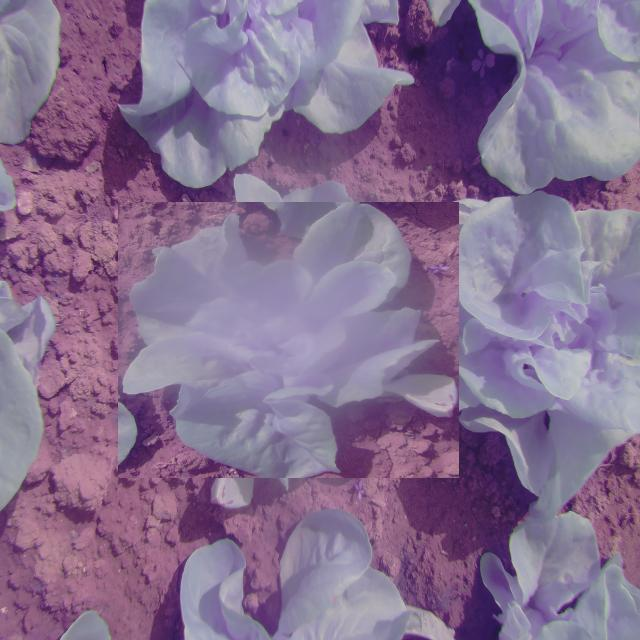vege: (134, 186, 443, 494)
